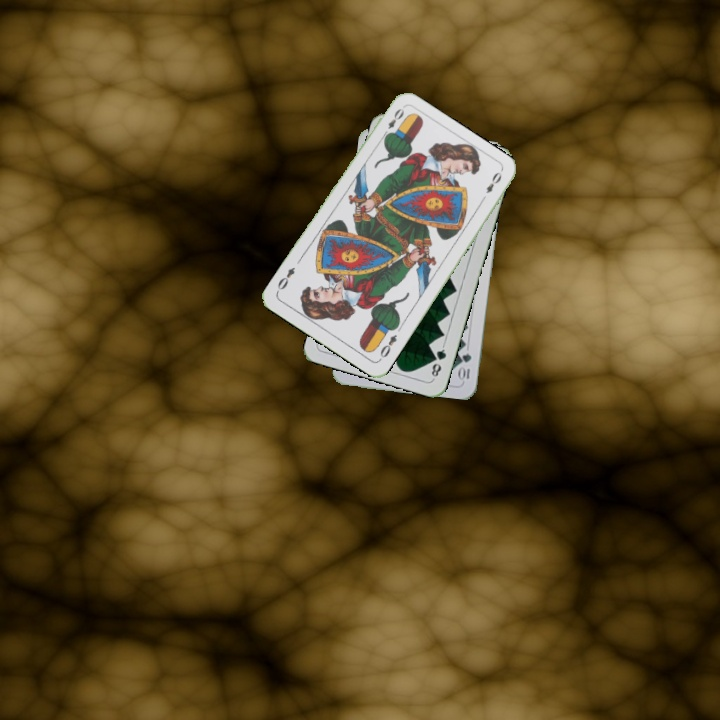EO: (379, 104, 407, 140), (375, 330, 399, 363)
G10: (456, 349, 474, 383)
G8: (427, 342, 449, 381)
